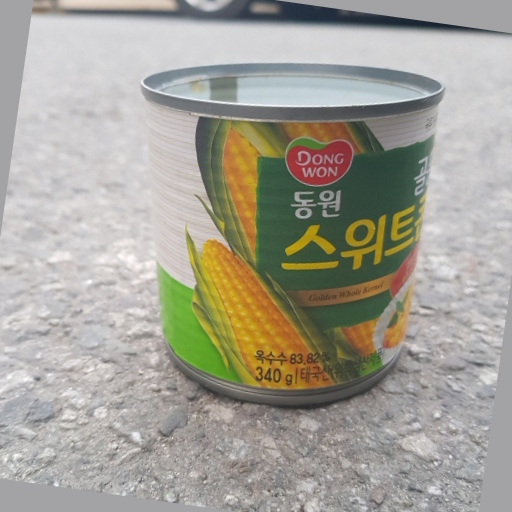Metal_1: (137, 62, 443, 406)
